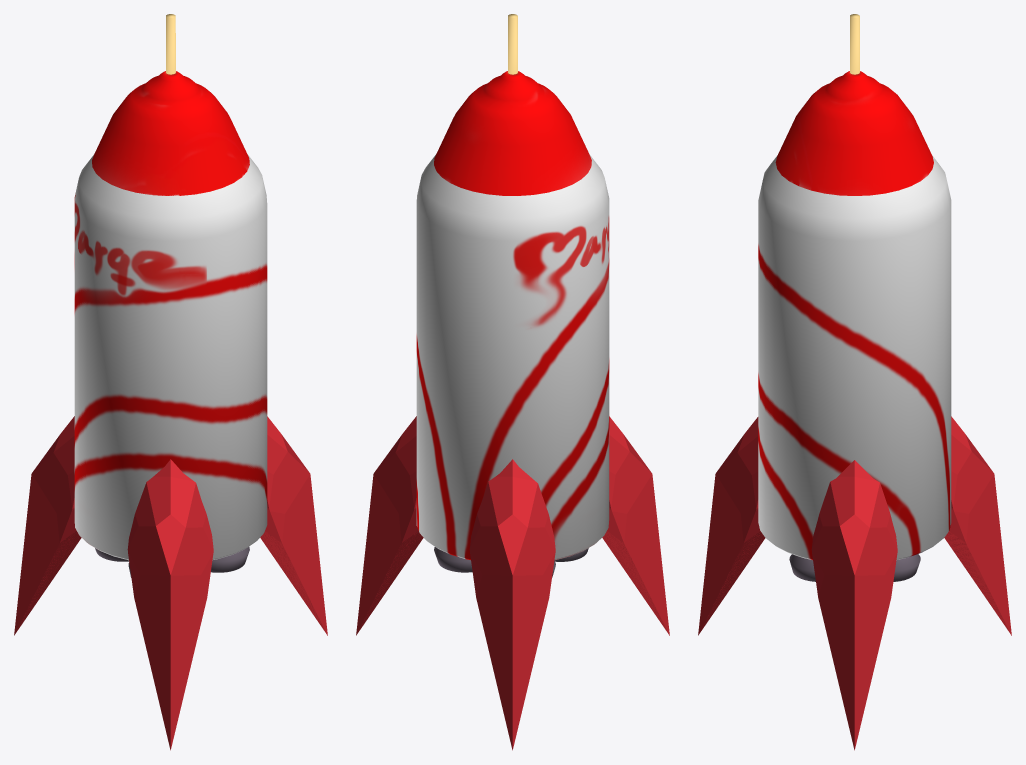
File: rocketshipnewer.fbx
3 views of the same model, side by side, from view 1: azimuth 30°, elevation 25°; view 2: azimuth 150°, elevation 25°; view 3: azimuth 270°, elevation 25° (orthographic).
Visible parts, largest first — view 1: Rocket Body, Rocket Leg 2.003, Rocket Leg 2.002, Rocket Leg 2.001, Booster 2.001; view 2: Rocket Body, Rocket Leg 2.002, Rocket Leg 2.001, Rocket Leg 2.003, Booster 2; view 3: Rocket Body, Rocket Leg 2.001, Rocket Leg 2.003, Rocket Leg 2.002, Booster 2.
Boxes of the visible parts, box(x1,y1,x2,y2) form: Rocket Body: box(74, 14, 267, 560); Rocket Leg 2.003: box(127, 459, 213, 750); Rocket Leg 2.002: box(14, 416, 81, 635); Rocket Leg 2.001: box(260, 416, 327, 635); Booster 2.001: box(211, 547, 249, 572); Rocket Body: box(416, 14, 609, 560); Rocket Leg 2.002: box(469, 459, 555, 750); Rocket Leg 2.001: box(356, 416, 423, 635); Rocket Leg 2.003: box(602, 416, 669, 635); Booster 2: box(434, 547, 472, 572); Rocket Body: box(758, 14, 951, 560); Rocket Leg 2.001: box(811, 460, 897, 750); Rocket Leg 2.003: box(698, 417, 765, 635); Rocket Leg 2.002: box(944, 416, 1011, 635); Booster 2: box(893, 554, 920, 581).
Bounding box in the file's own units: 288 × 752 × 325.
Materials: 4 (1 with a texture image).
